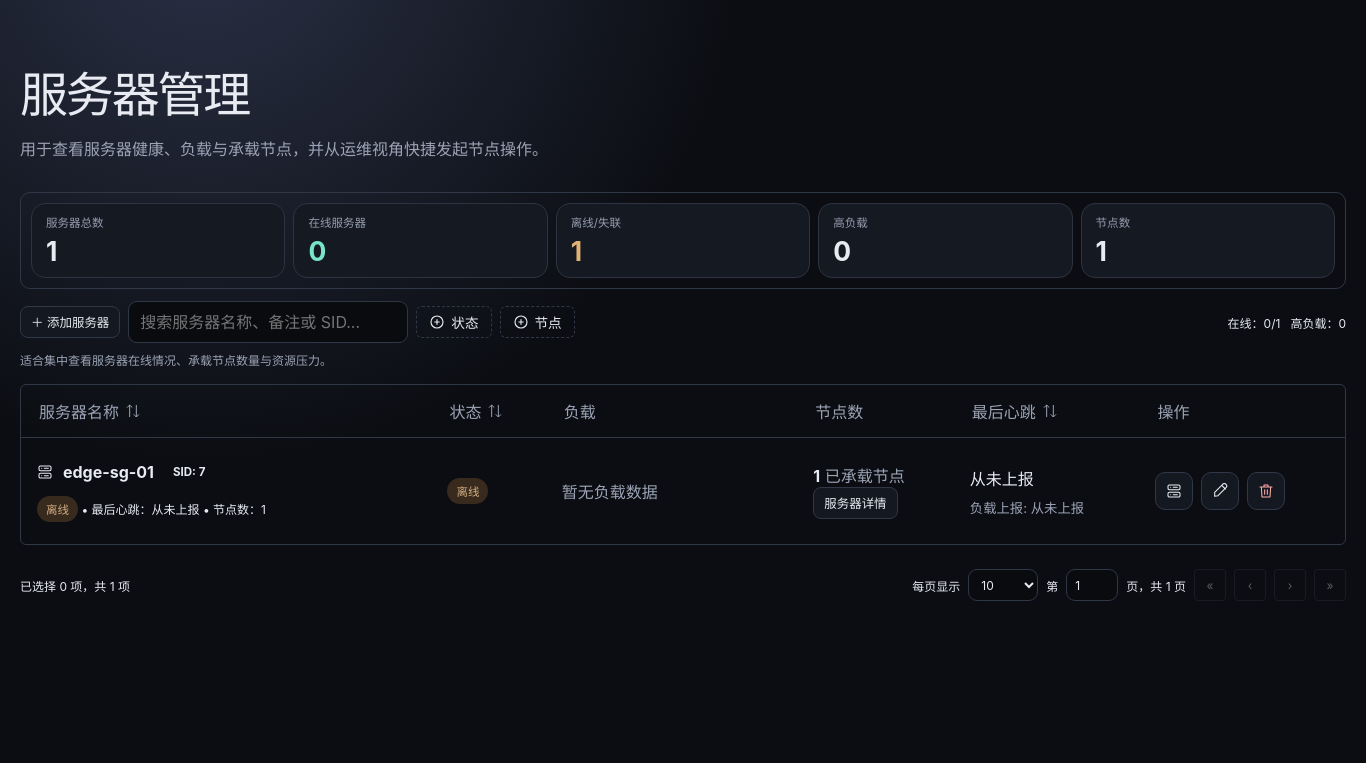
it: ServerManagementPage › shows exactly one schedule button on the first and every later drawer open
The width and height of the screenshot is (1366, 763).
What coordinates should you click on to do the following:
click the button "服务器详情"
I would click on:
 (855, 503)
Its box is x1=813 y1=487 x2=898 y2=519.
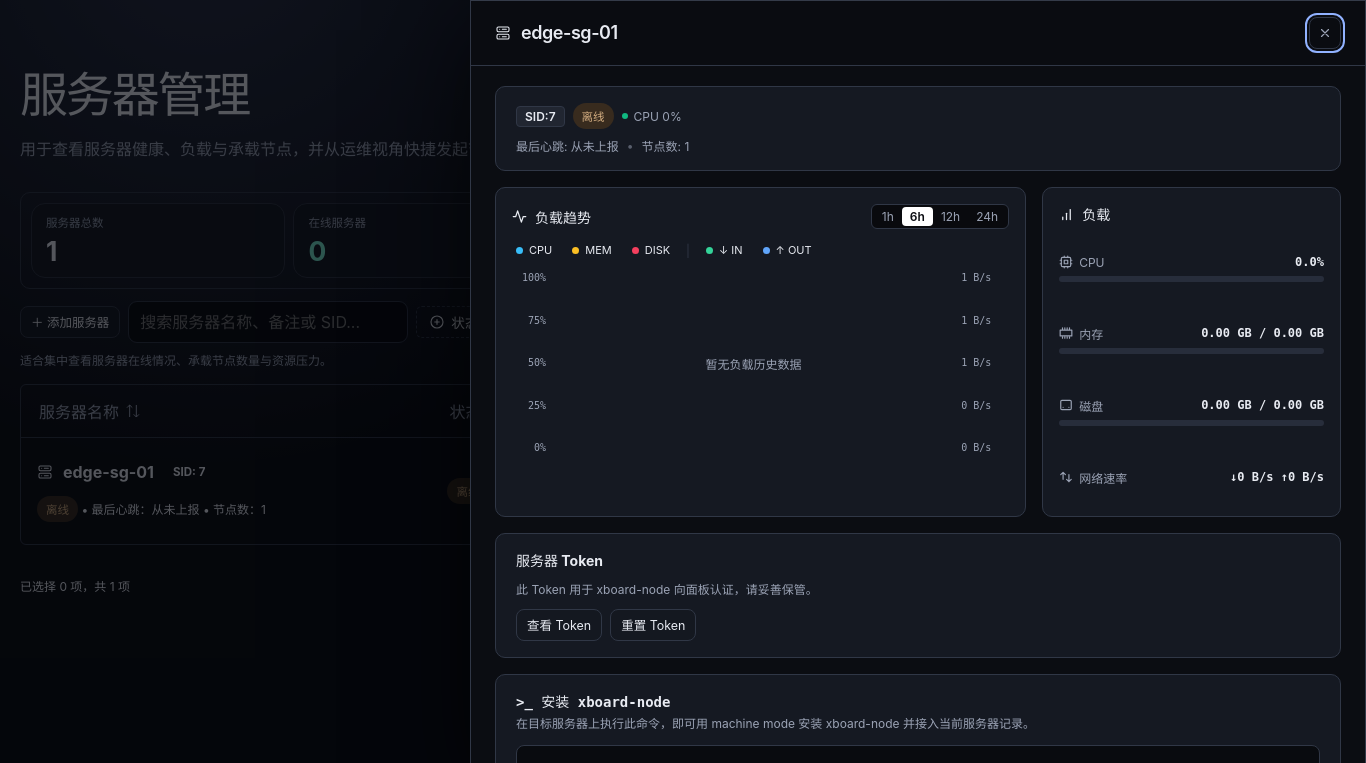
What coordinates should you click on to do the following:
click the button named "关闭服务器详情"
I would click on:
 (1325, 33)
Its box is x1=1309 y1=17 x2=1341 y2=49.
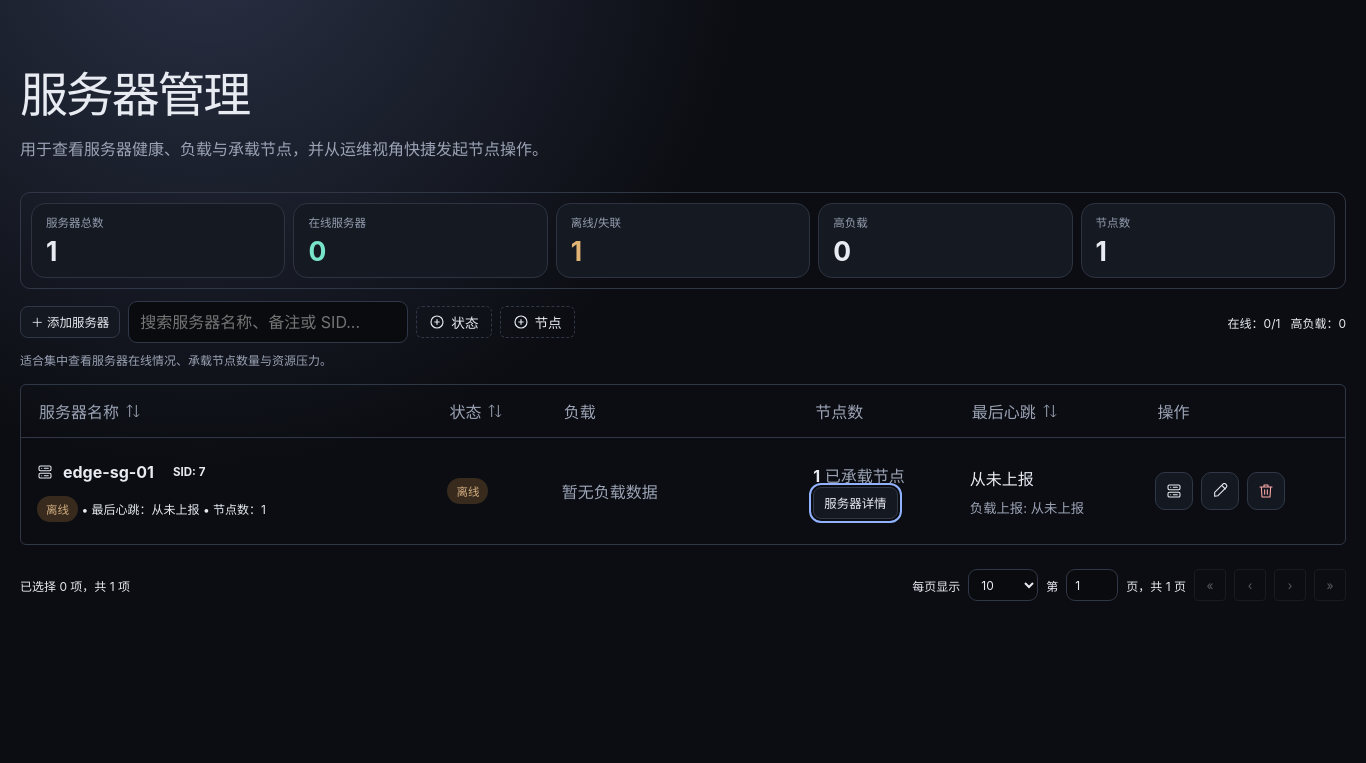
What coordinates should you click on to do the following:
click the button "服务器详情"
I would click on:
 (855, 503)
Its box is x1=813 y1=487 x2=898 y2=519.
(page scrolled)
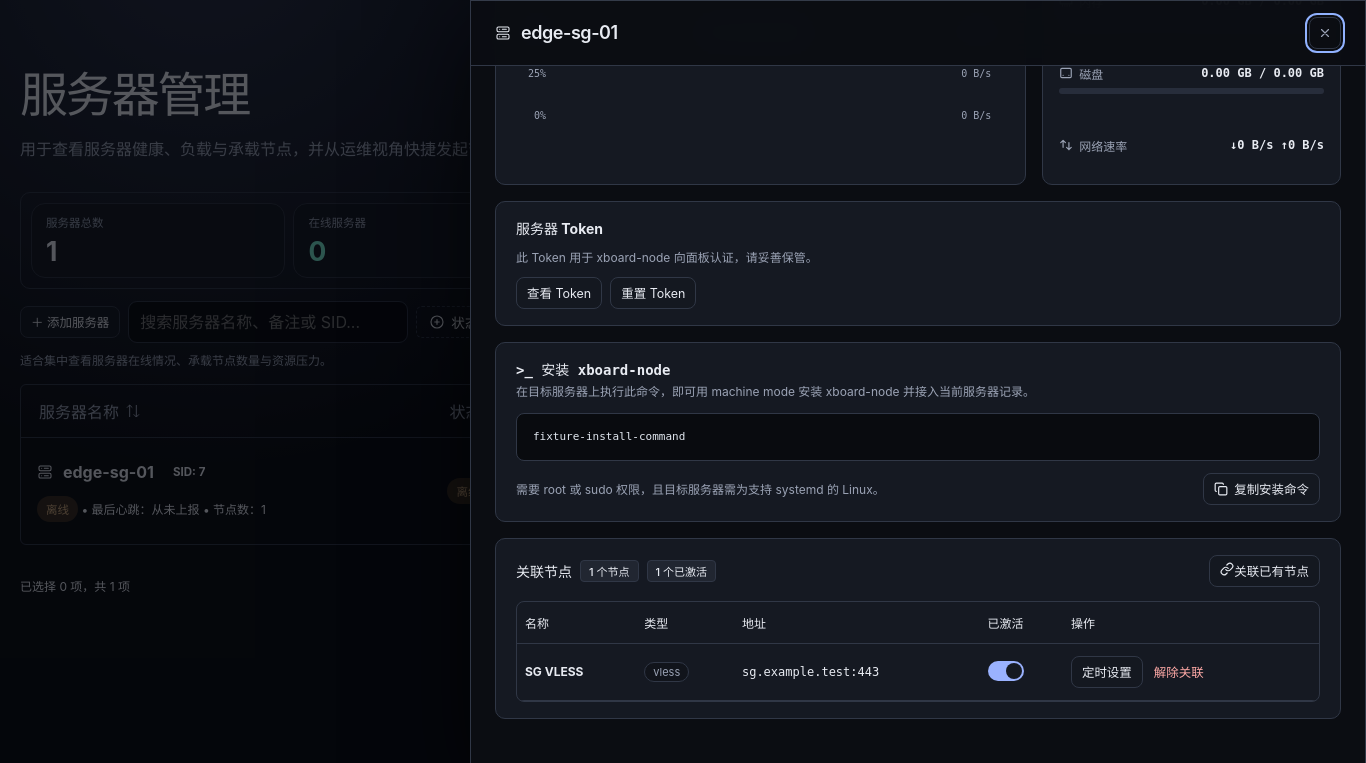
Check: the number of buttons named "定时设置：SG VLESS" is 1, box x1=1071 y1=656 x2=1143 y2=688
